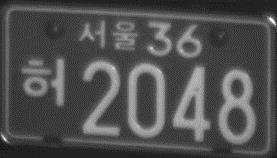0: (126, 63, 167, 141)
2: (79, 58, 122, 138)
3: (144, 19, 172, 58)
4: (168, 64, 210, 141)
6: (172, 21, 203, 60)
8: (217, 67, 257, 144)
서울_O: (78, 19, 139, 52)
허: (19, 58, 68, 108)
